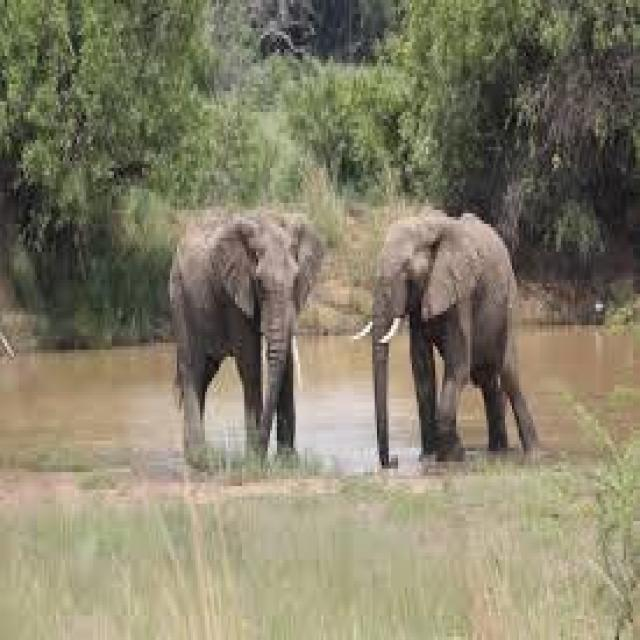Elephant: (160, 196, 324, 462), (372, 210, 533, 454)
